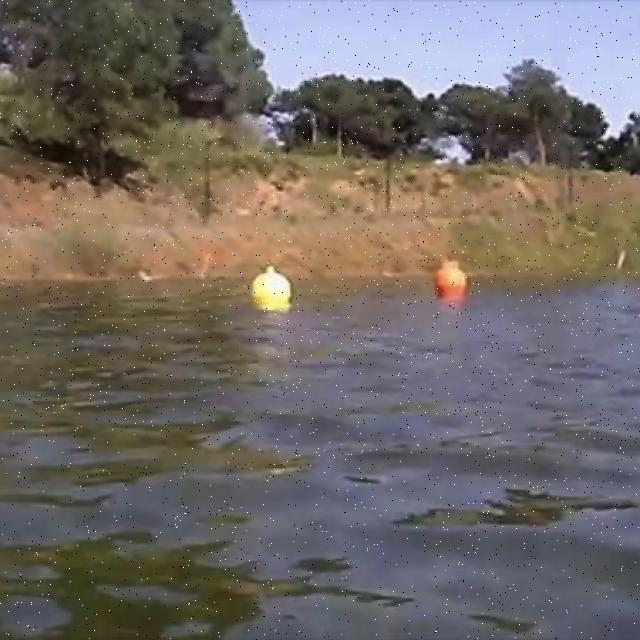buoy: (252, 265, 292, 307), (435, 260, 467, 294)
